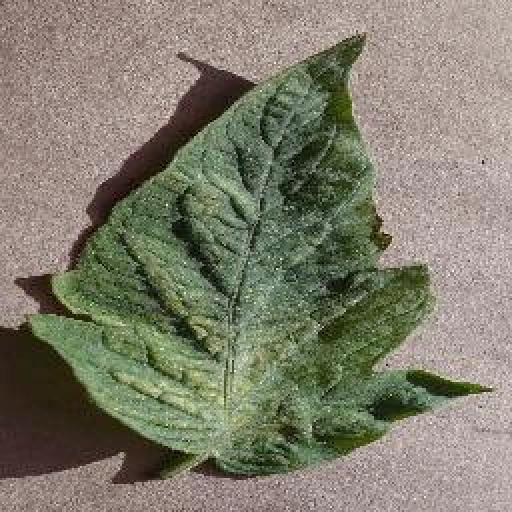disease_tomato: (28, 30, 494, 480)
